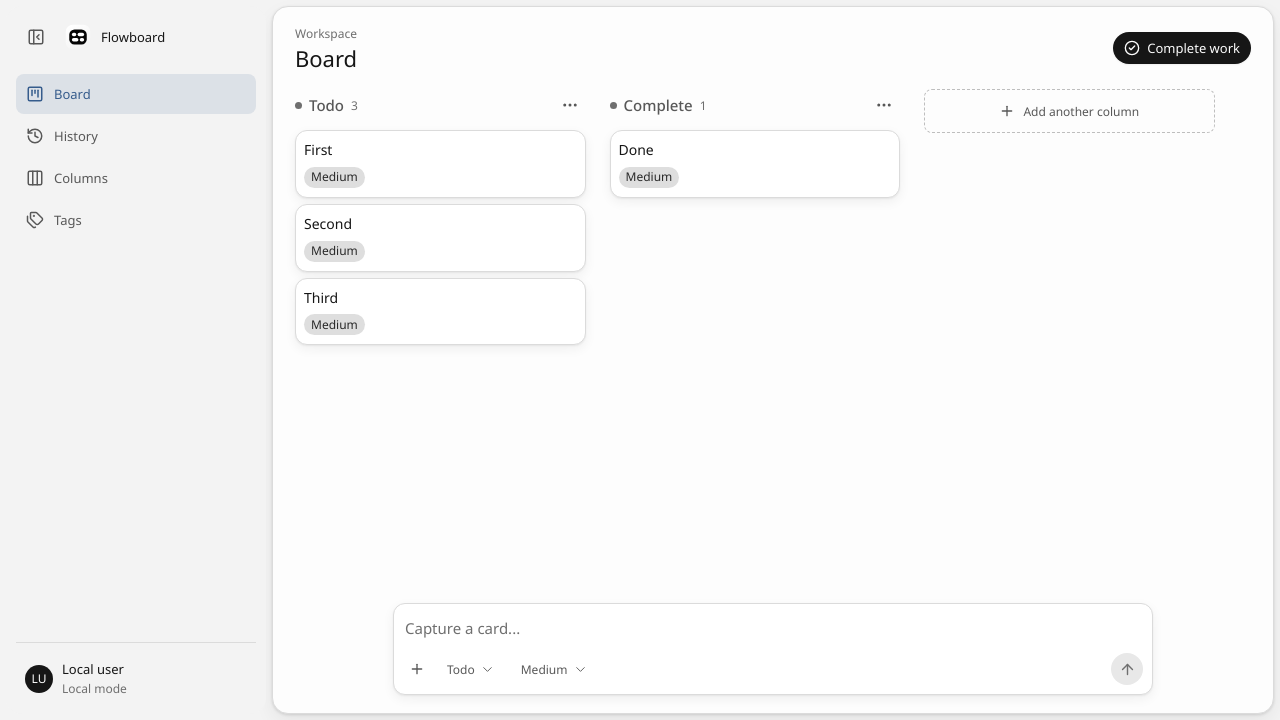
Scenario: preserves cached history and retries a failed background refresh
Click the button "History": x=136, y=136 16,116 -> 256,156
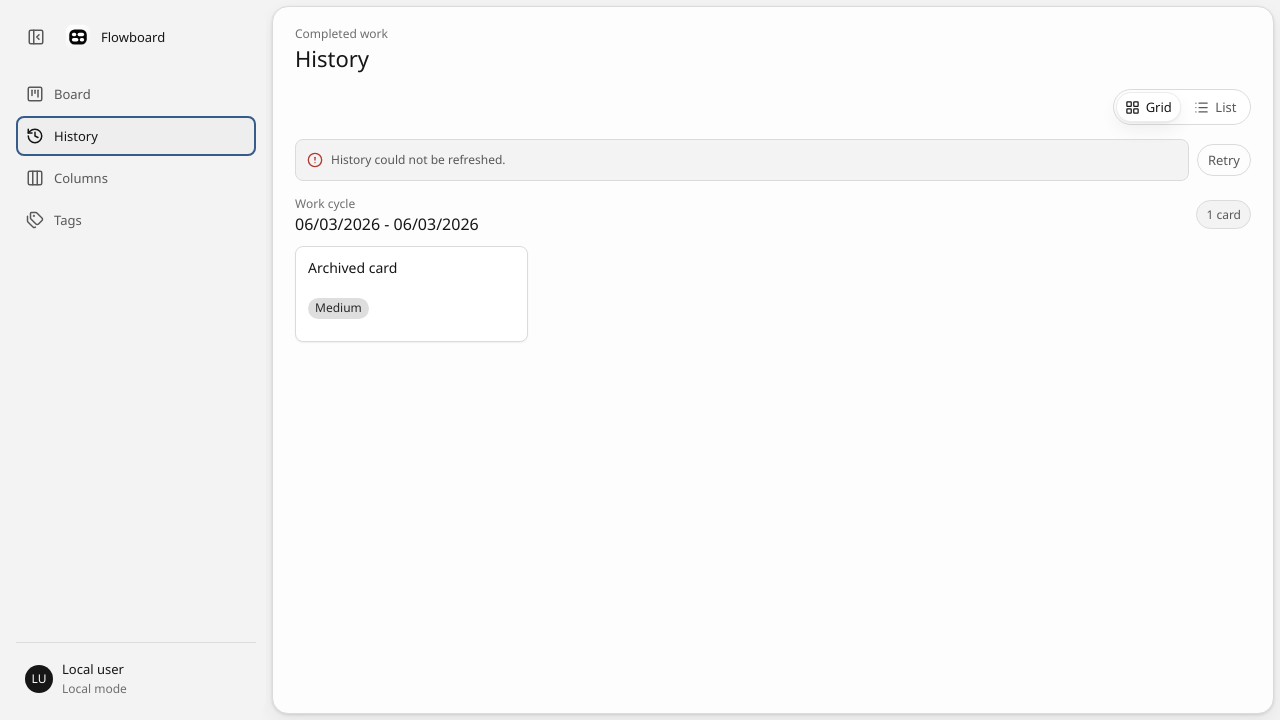
Expected: the text "Archived card" is shown, 308,258 -> 397,277
Expected: the text "History could not be refreshed." is shown, 331,151 -> 506,169
Click the button "Retry": x=1224, y=160 1197,144 -> 1251,176
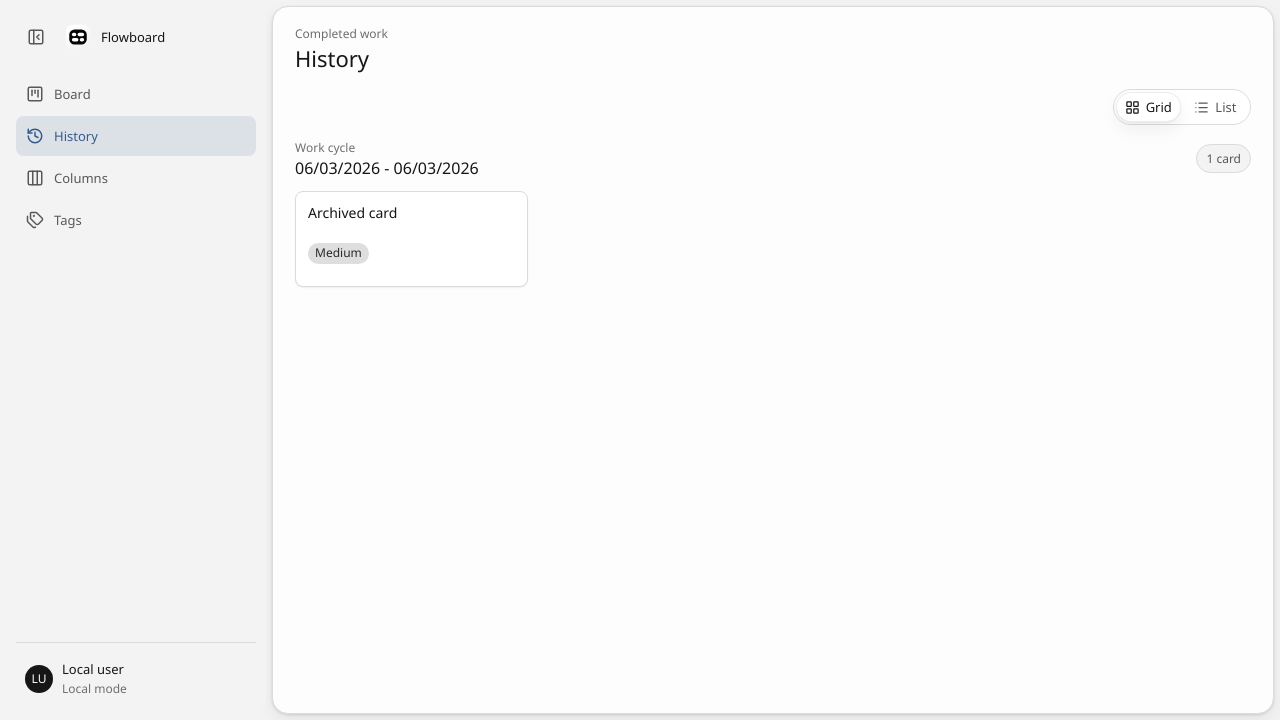
Expected: the text "Archived card" is shown, 308,203 -> 397,222
Expected: the text "History could not be refreshed." is gone
